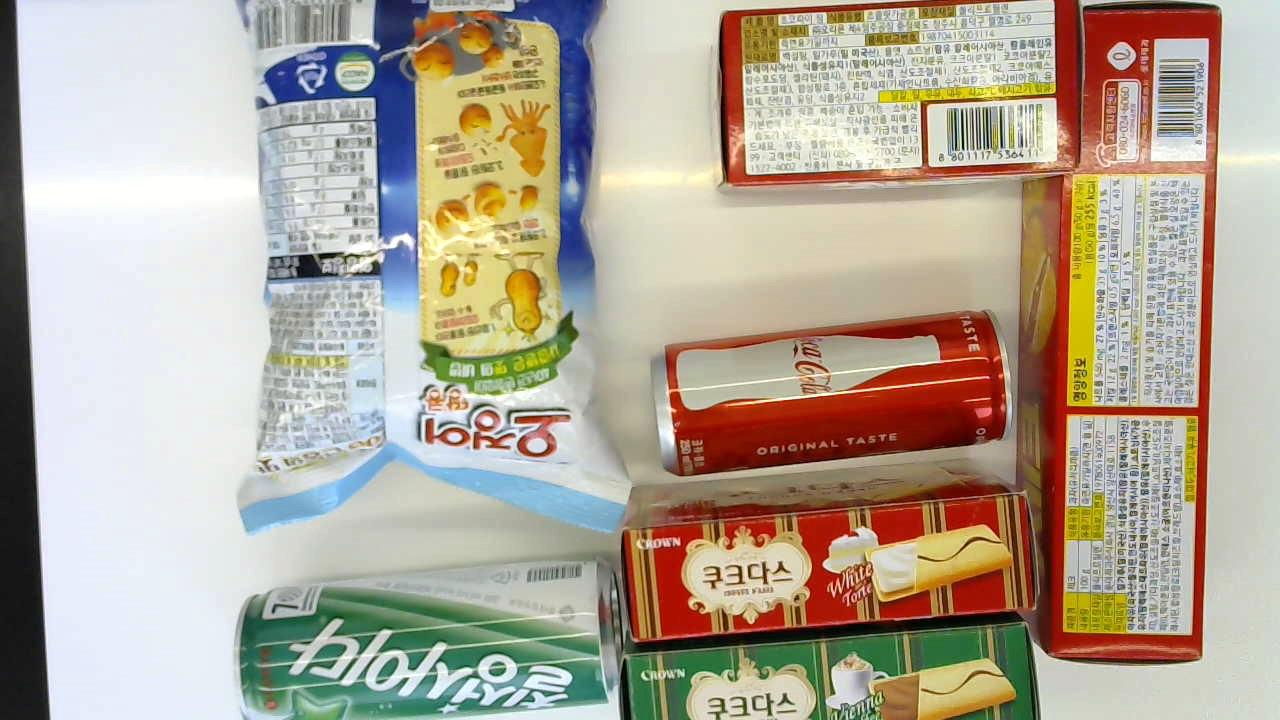chocopie: (708, 0, 1081, 193)
cidar: (232, 552, 620, 720)
coke: (649, 308, 1009, 478)
couque_coffee: (615, 622, 1045, 719)
couque_white: (620, 458, 1038, 646)
squid_peanut: (232, 0, 636, 540)
zec: (1017, 2, 1223, 663)
